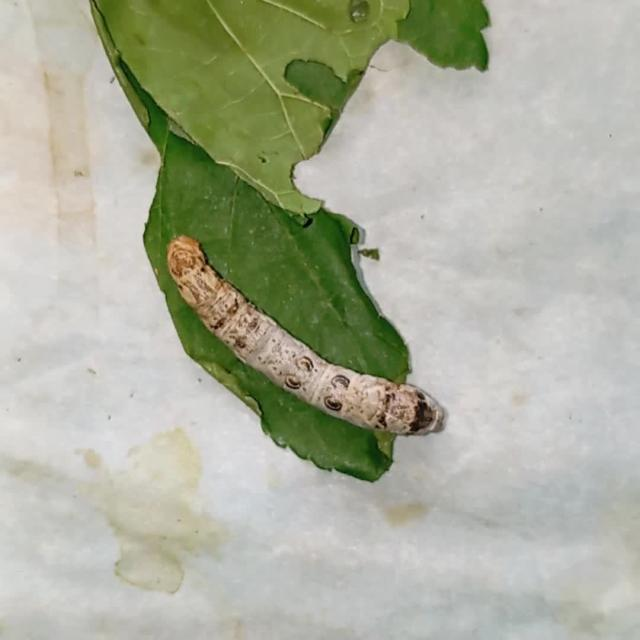Grasserie: (160, 226, 450, 452)
